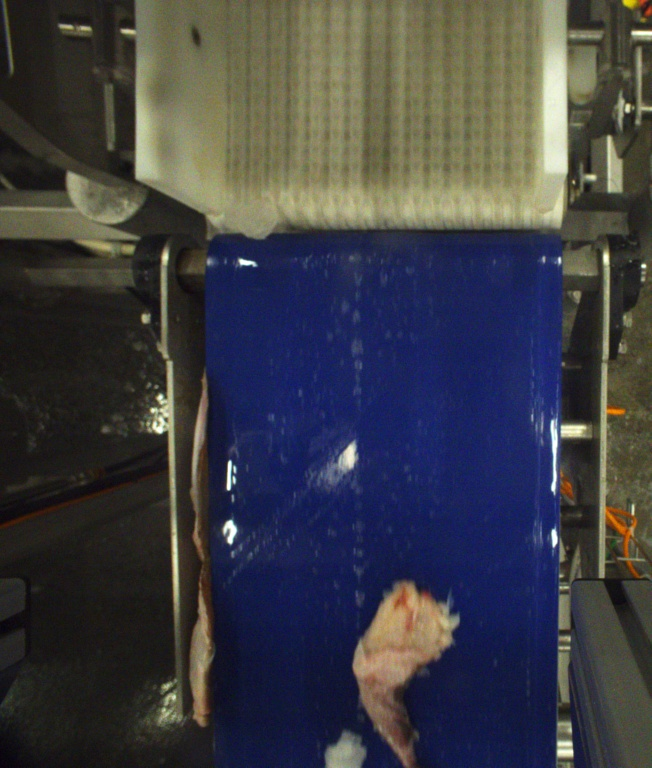ANF: (356, 588, 449, 767)
